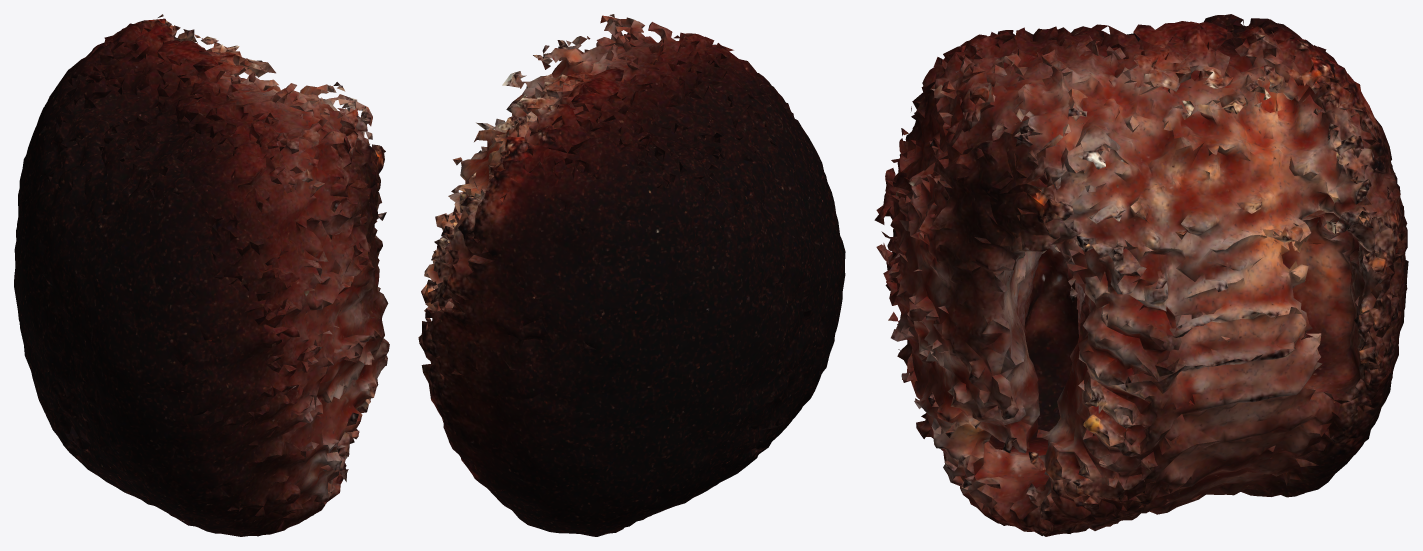
Rendered from cake_0.glb.
3 views of the same model, side by side, from view 1: azimuth 30°, elevation 25°; view 2: azimuth 150°, elevation 25°; view 3: azimuth 270°, elevation 25° (orthographic). The views are drawn at different scales.
Visible parts, largest first — view 1: model; view 2: model; view 3: model.
Boxes of the visible parts, x1,y1,x2,y2 form: model: (14, 14, 389, 536); model: (418, 14, 845, 536); model: (874, 14, 1408, 536).
Bounding box in the file's own units: 0.6678 × 0.8343 × 0.8291.
1 material, 1 textured.
